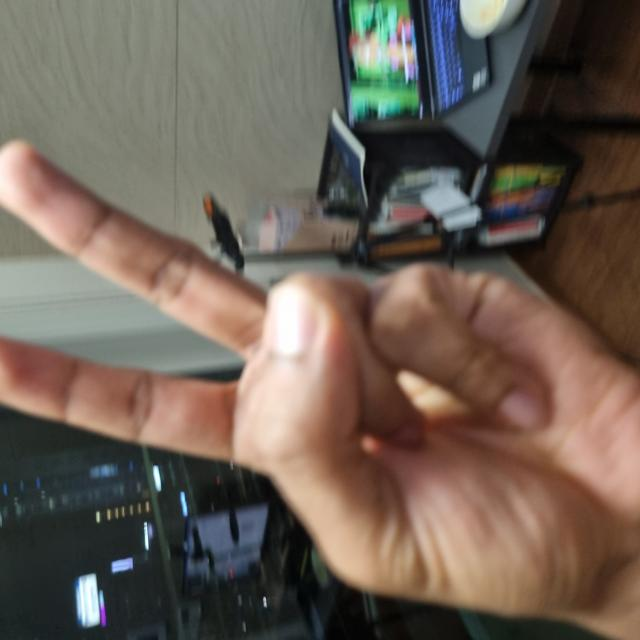Scissors: (2, 0, 488, 639)
